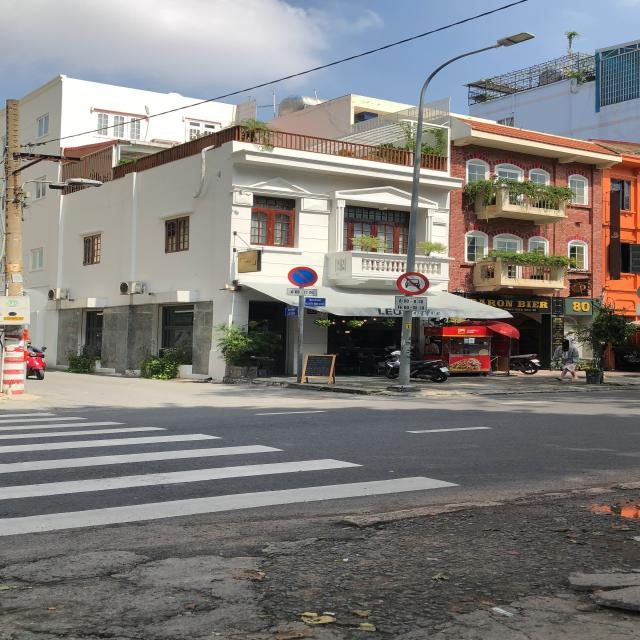Bien bao cam do xe: (284, 264, 322, 288)
Bien bao cam xe oto: (393, 270, 434, 297)
